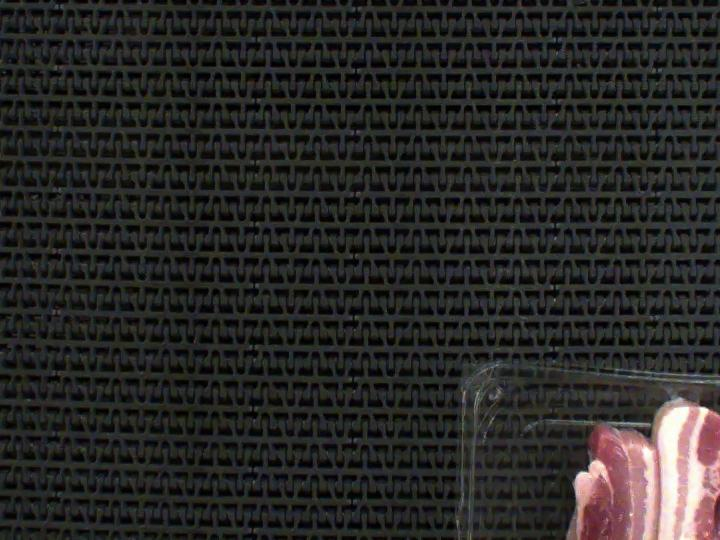packaging-error: (660, 377, 708, 413)
